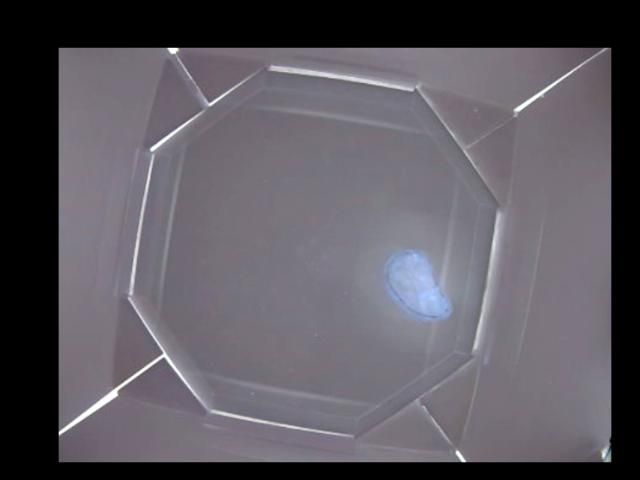Pebble: (383, 250, 455, 318)
